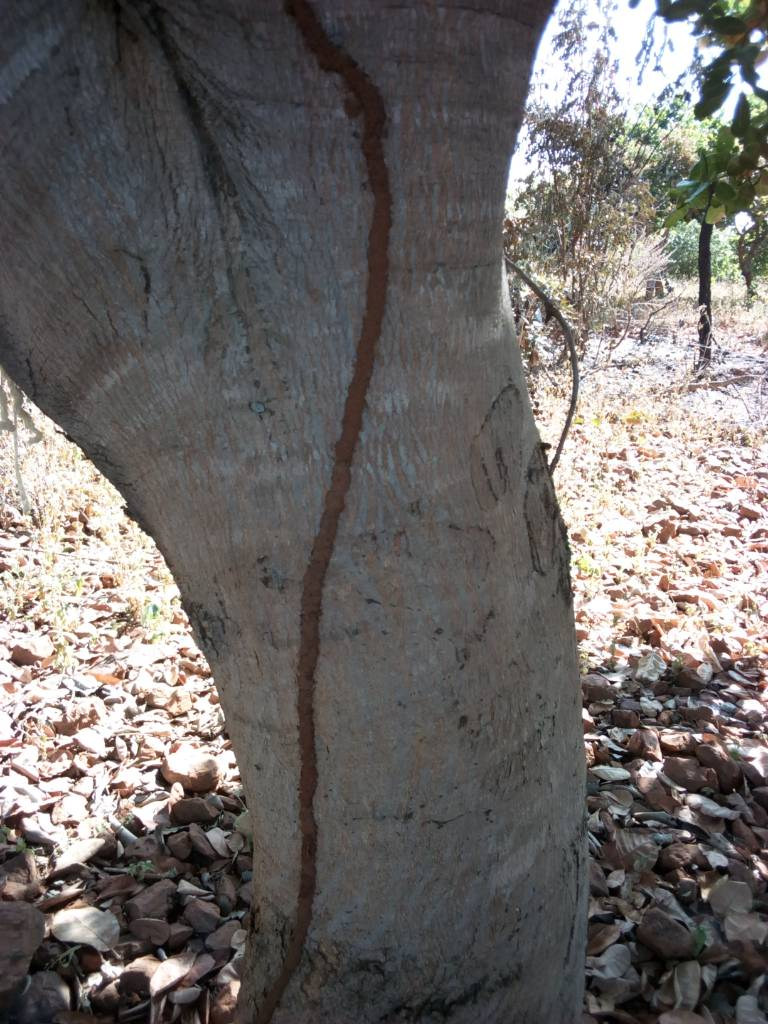Termites: (274, 110, 393, 988)
